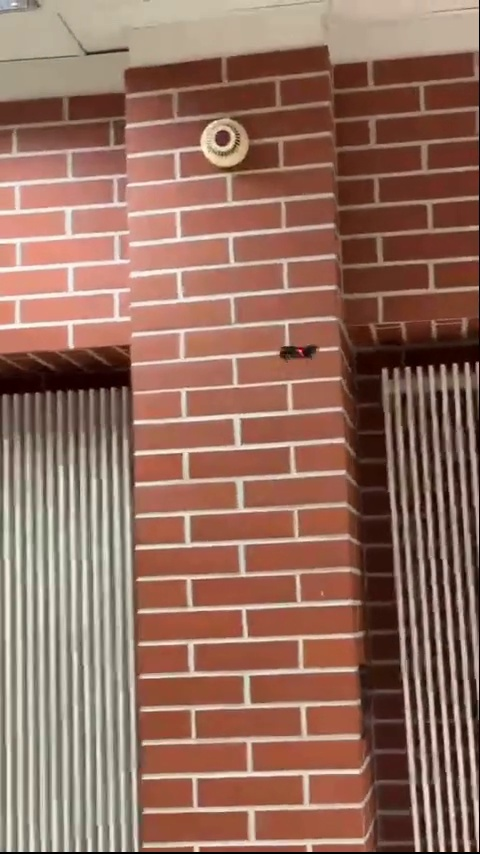drone: (281, 342, 322, 362)
